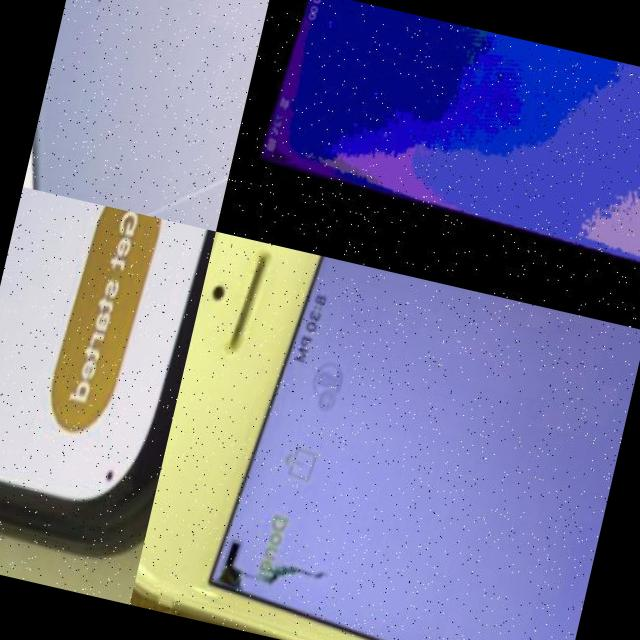dead pixel: (174, 495, 340, 640), (62, 412, 158, 538)
